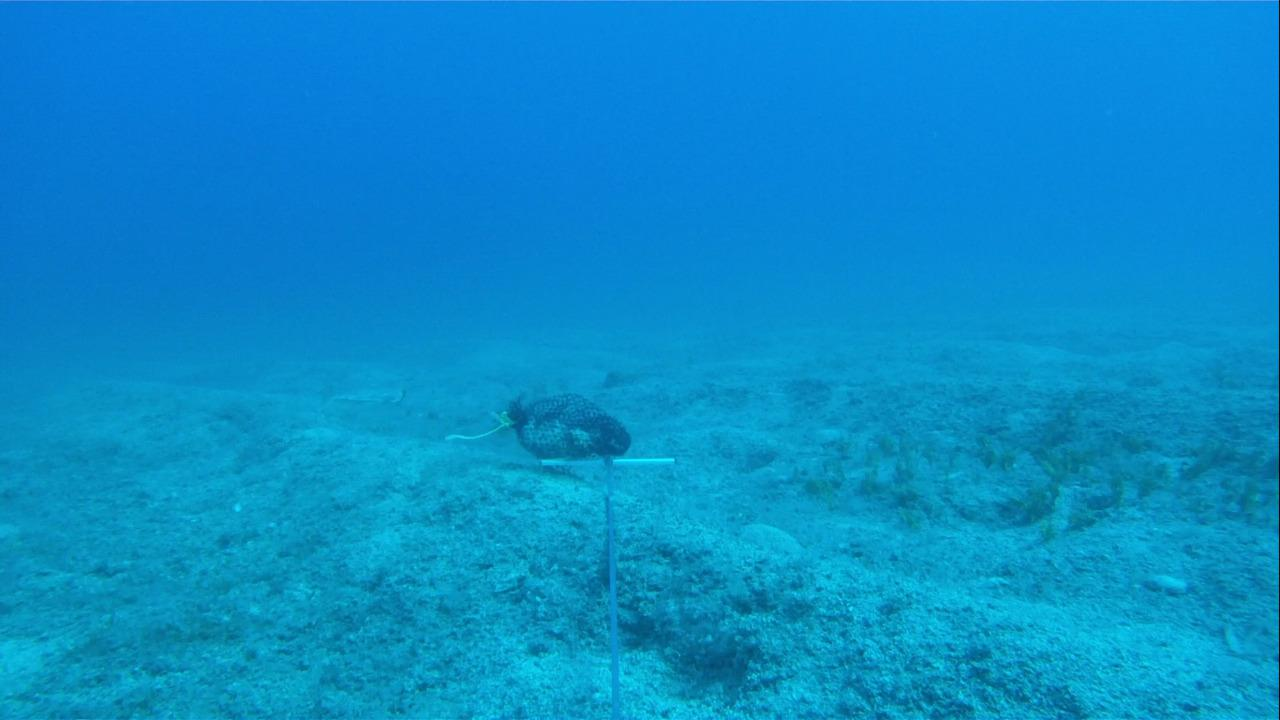dactylopterus: (303, 372, 410, 421)
